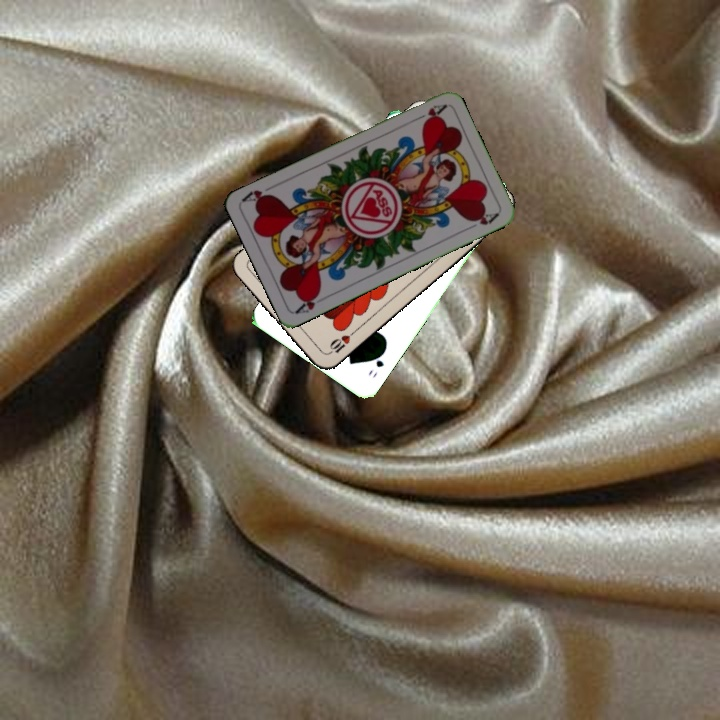GO: (364, 346, 388, 380)
H10: (325, 326, 358, 357)
HA: (409, 100, 448, 126), (292, 288, 323, 316)
